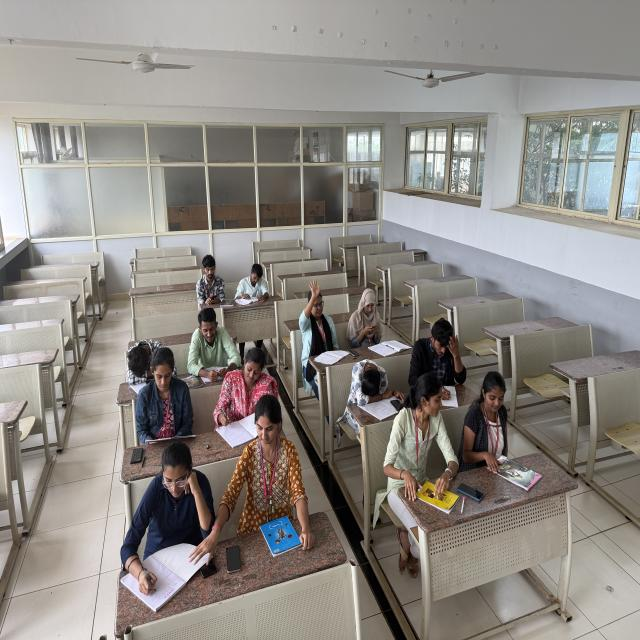Hand Rising: (297, 269, 347, 382)
Reading: (471, 349, 549, 482), (144, 342, 204, 452), (176, 308, 243, 382), (232, 252, 270, 323)
Sleeping: (94, 306, 177, 393), (331, 350, 387, 418)
Using Phone: (350, 276, 389, 355), (187, 248, 227, 308)
Writing: (115, 452, 202, 600), (412, 286, 478, 412), (217, 329, 276, 454)
